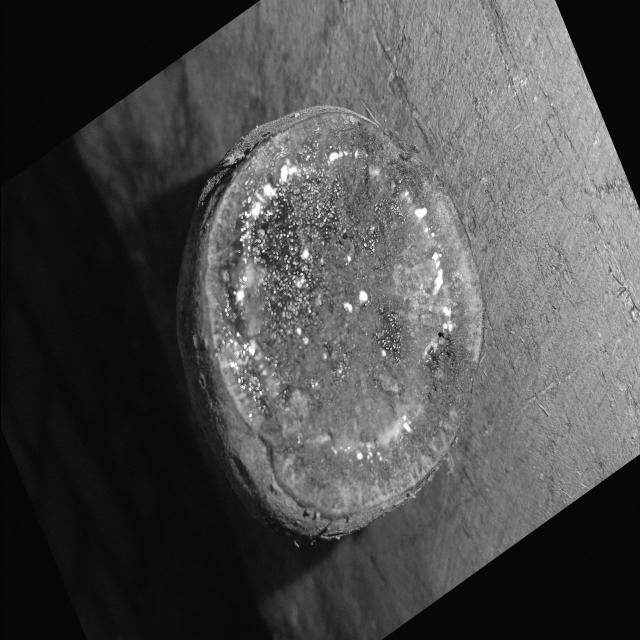Sick Sweet Potato_Tuber Rot: (204, 112, 482, 518)
